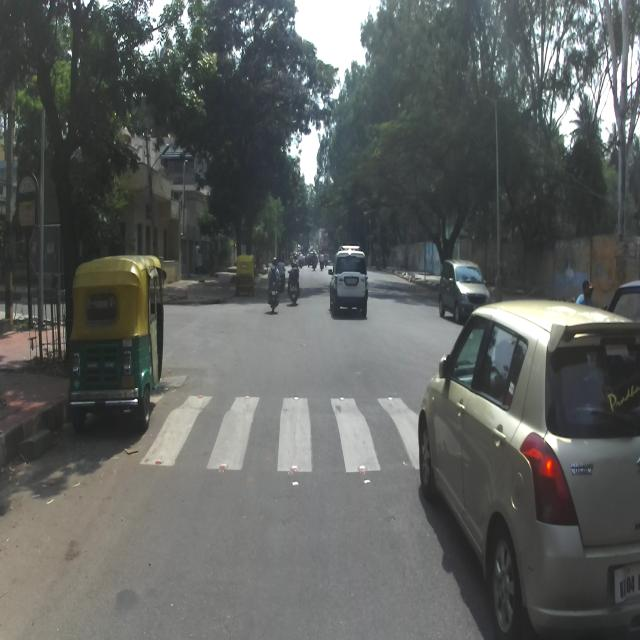auto ahead at: (70, 259, 166, 423)
car ahead at: (420, 308, 639, 640), (332, 246, 368, 316)
zebra crossing ahead at: (148, 387, 416, 473)
